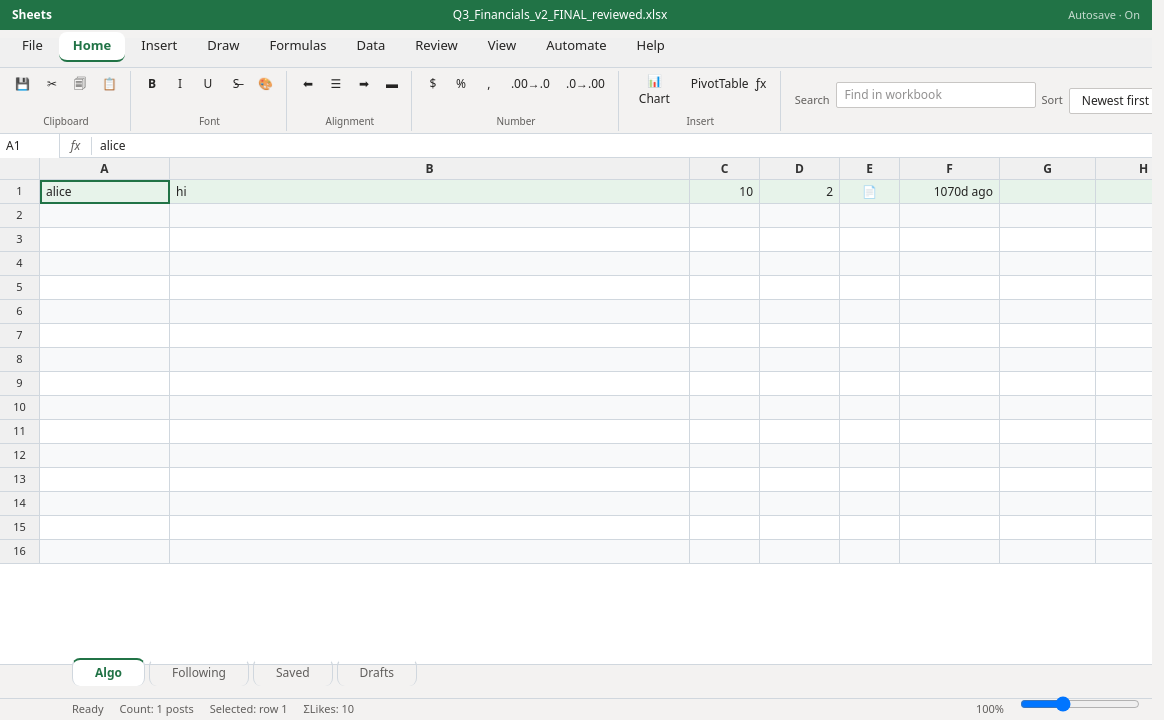
LedgerPage › clicking a cell updates the formula bar coordinate
This screenshot has width=1164, height=720.
Click the text with test id "ledger-cell-0-B" at (430, 192), box [170,180,690,204]
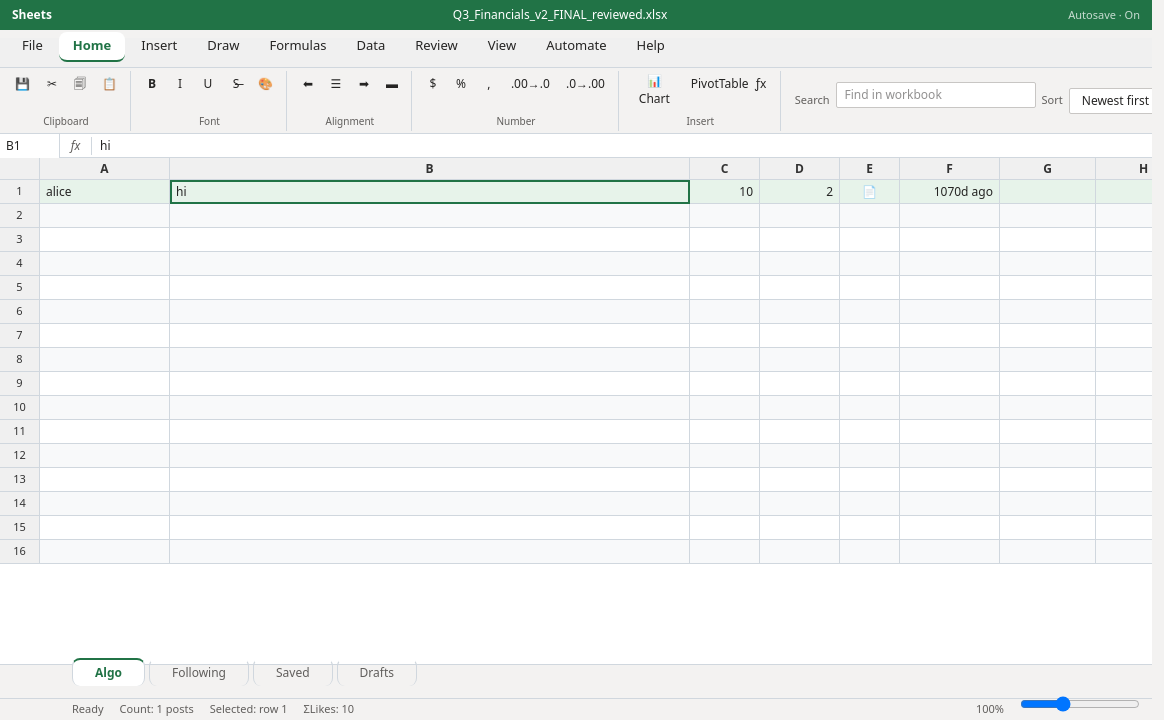
Expected: the text with test id "ledger-name-box" reads "B1", [6,136,21,154]
